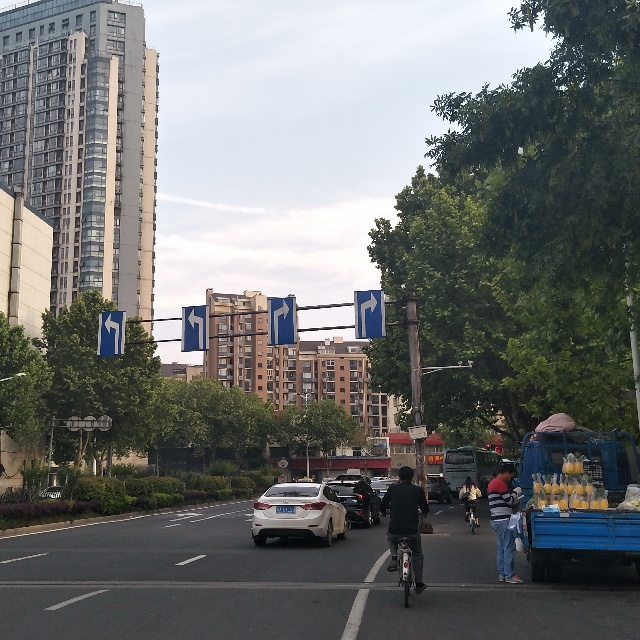left: (96, 312, 123, 354), (182, 307, 209, 348)
right: (269, 297, 295, 345), (361, 291, 385, 335)
